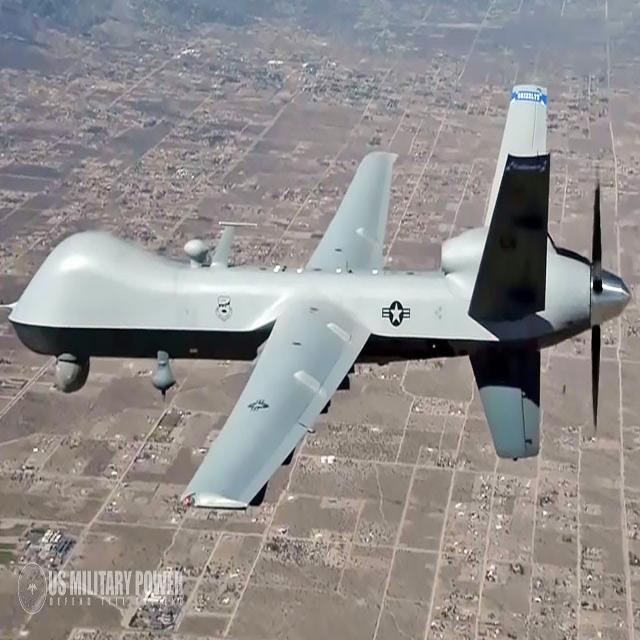iha: (7, 80, 634, 517)
